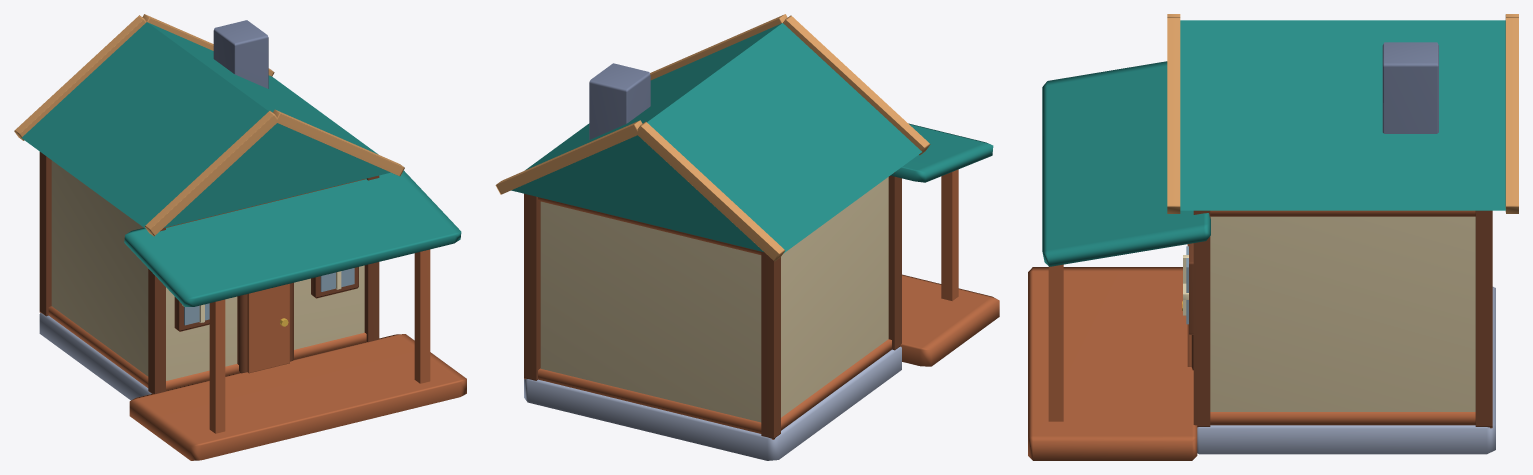
Rendered from fisher_cottage.glb.
The picture shows the model from 3 angles, left to right: view 1: azimuth 30°, elevation 25°; view 2: azimuth 150°, elevation 25°; view 3: azimuth 270°, elevation 25°; orthographic projection. The views are drawn at different scales.
Visible parts, largest first — view 1: Pitched roof, Porch canopy, Porch deck, Plaster walls, Door planks, Chimney, Stone footing, Timber band, Roof trim, Porch post.001, Porch post, Corner post (+8 smaller); view 2: Plaster walls, Pitched roof, Stone footing, Porch deck, Timber band, Corner post.001, Chimney, Roof trim.002, Corner post.003, Porch canopy, Corner post, Porch post (+4 smaller); view 3: Pitched roof, Plaster walls, Porch deck, Porch canopy, Stone footing, Chimney, Corner post.003, Timber band, Corner post.002, Roof trim.001, Roof trim.003, Porch post.001 (+1 smaller).
Part boxes in pixels (box(x1,y1,x2,y2)): Pitched roof: box(21, 22, 390, 229); Porch canopy: box(124, 170, 461, 306); Porch deck: box(129, 334, 466, 460); Plaster walls: box(51, 160, 364, 380); Door planks: box(247, 283, 289, 373); Chimney: box(213, 20, 268, 88); Stone footing: box(39, 313, 151, 400); Timber band: box(48, 306, 366, 390); Roof trim: box(144, 111, 277, 236); Porch post.001: box(414, 249, 430, 383); Porch post: box(209, 299, 225, 433); Corner post: box(148, 227, 165, 393); Plaster walls: box(540, 177, 888, 422); Pitched roof: box(511, 23, 921, 253); Stone footing: box(524, 346, 901, 460); Porch deck: box(900, 274, 999, 366); Timber band: box(538, 339, 891, 433); Corner post.001: box(761, 251, 780, 439); Chimney: box(589, 63, 650, 139); Roof trim.002: box(637, 121, 785, 261); Corner post.003: box(524, 193, 540, 380); Porch canopy: box(890, 123, 993, 182); Corner post: box(888, 172, 901, 350); Porch post: box(941, 169, 958, 300); Pitched roof: box(1180, 20, 1505, 210); Plaster walls: box(1210, 216, 1475, 411); Porch deck: box(1028, 267, 1197, 460); Porch canopy: box(1042, 61, 1210, 266); Stone footing: box(1197, 287, 1495, 454); Chimney: box(1382, 42, 1438, 133); Corner post.003: box(1475, 210, 1492, 428); Timber band: box(1210, 412, 1475, 425); Corner post.002: box(1193, 210, 1210, 427); Roof trim.001: box(1167, 17, 1180, 213); Roof trim.003: box(1505, 17, 1518, 213); Porch post.001: box(1048, 264, 1063, 421).
Size of the model in its own units: 4.4 by 4.31 by 5.22.
